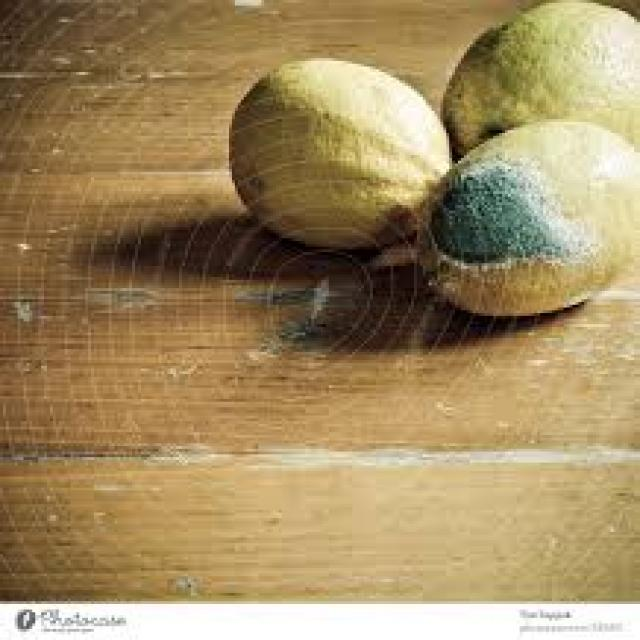organic waste: (411, 111, 637, 316), (226, 56, 449, 250), (437, 0, 637, 155)
